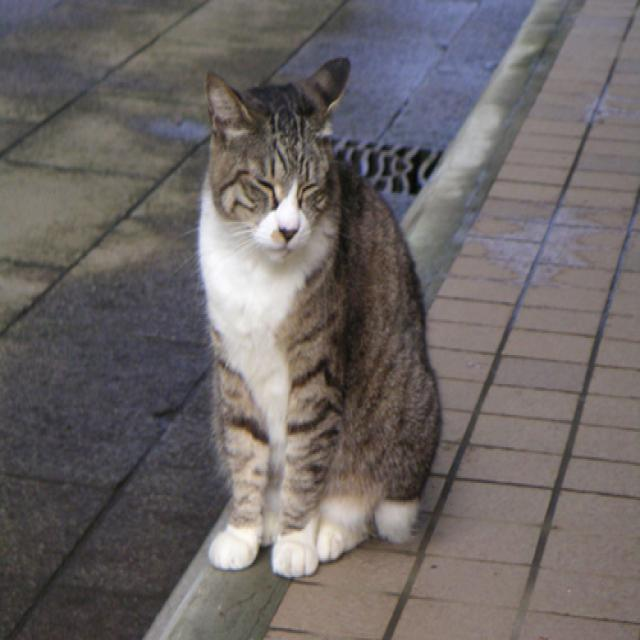left eye: (290, 171, 326, 209)
